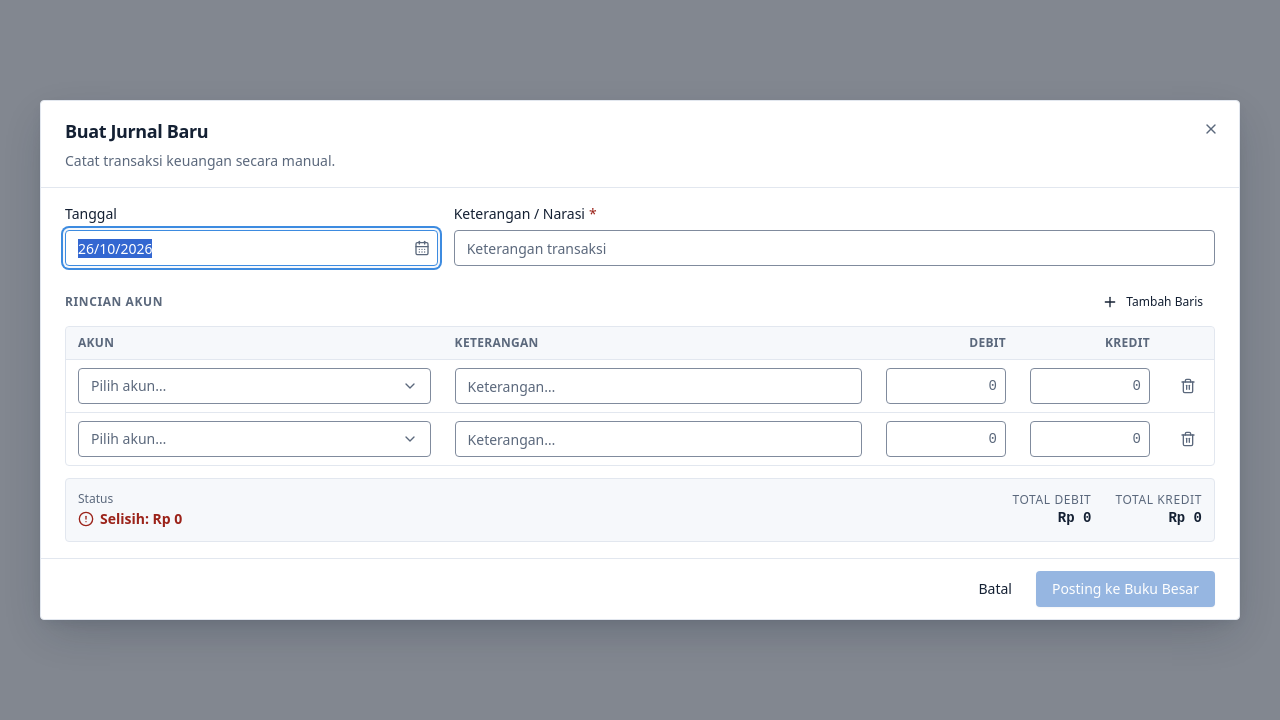
it: JournalEntryModal: pemilih akun dengan pencarian › mengetik di kolom cari menyaring akun, tanpa scroll manual
Click the 1st dropdown labelled "Pilih akun…".
click(129, 386)  # box [78,368,431,404]
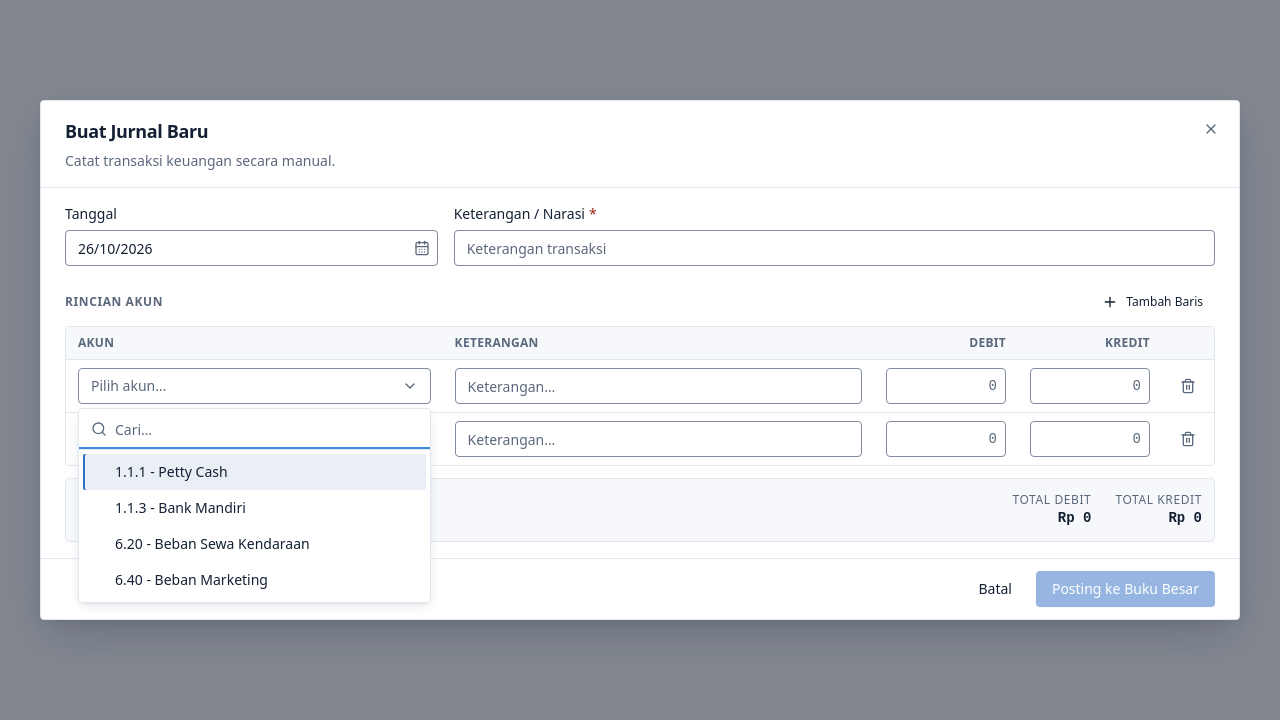
Type "mandiri" into the dropdown with placeholder "Cari…".
click(266, 429); type("mandiri")  # box [115,409,418,449]
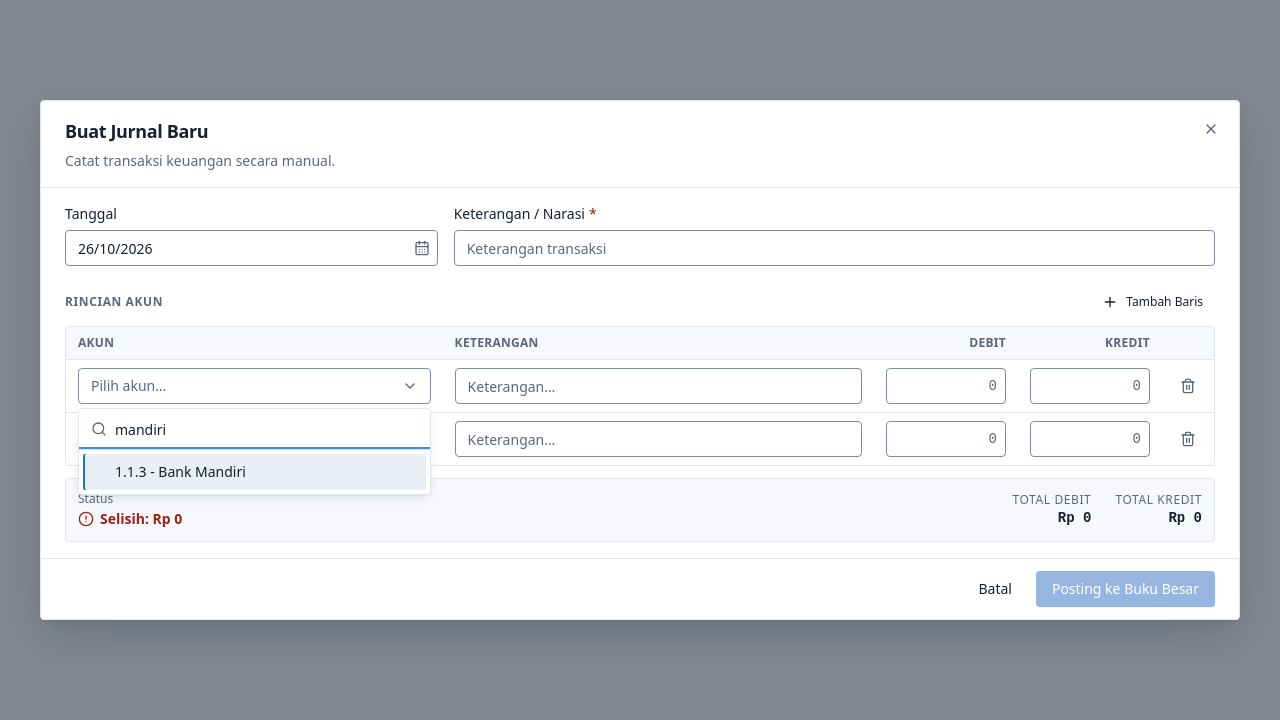
Expected: the text "1.1.3 - Bank Mandiri" is shown, [115,462,246,482]
Expected: the option "1.1.1 - Petty Cash" is gone
